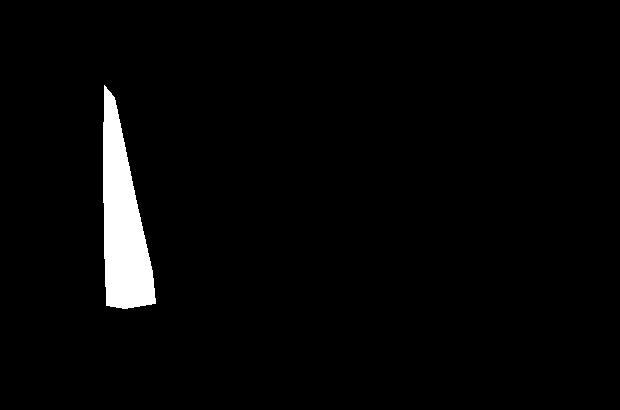type5: (100, 80, 159, 311)
